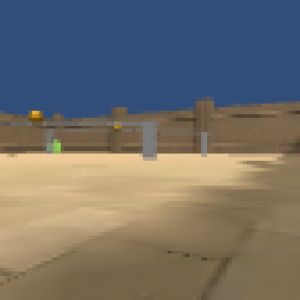goodGoal: (50, 139, 63, 152)
goodGoalMulti: (28, 110, 43, 124), (110, 119, 124, 132)
wall: (141, 121, 159, 162), (198, 129, 208, 157)
